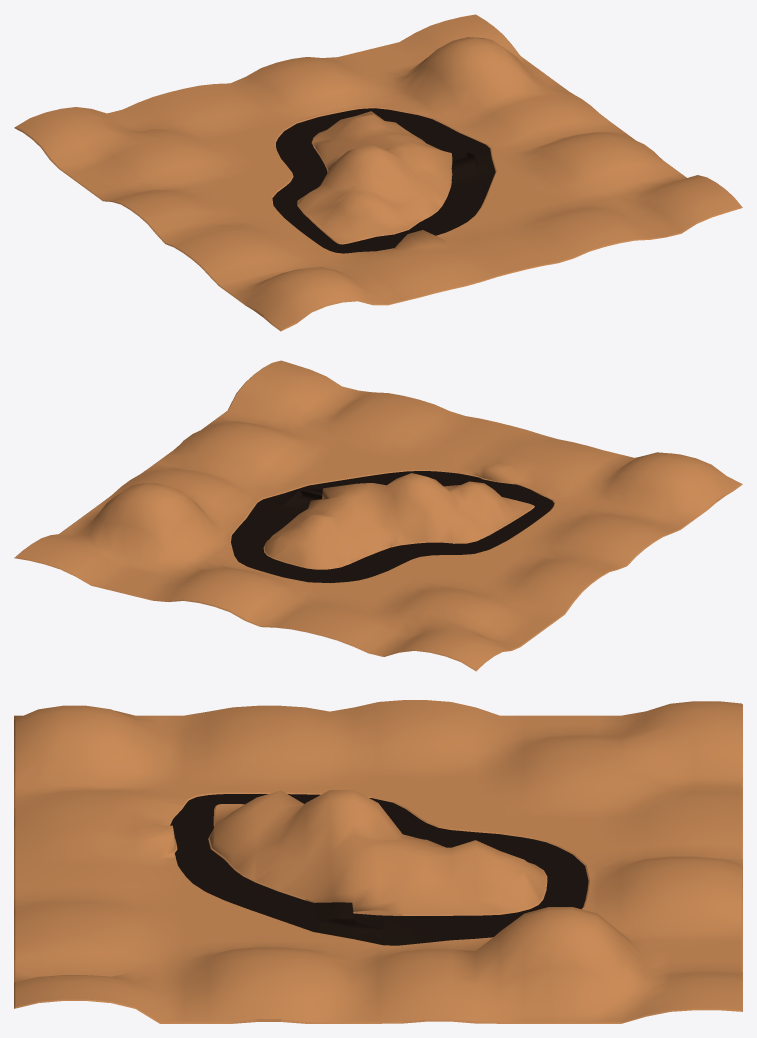
The model's file is desert.FBX.
3 views of the same model, one above another, from view 1: azimuth 30°, elevation 25°; view 2: azimuth 150°, elevation 25°; view 3: azimuth 270°, elevation 25° (orthographic). The views are drawn at different scales.
Visible parts, largest first — view 1: Plane031, Plane030; view 2: Plane031, Plane030; view 3: Plane031, Plane030.
Part boxes in pixels (bbox=[...]): Plane031: bbox=[14, 14, 742, 331]; Plane030: bbox=[272, 108, 495, 253]; Plane031: bbox=[14, 360, 742, 671]; Plane030: bbox=[231, 471, 554, 582]; Plane031: bbox=[14, 700, 742, 1023]; Plane030: bbox=[170, 794, 588, 945].
Bounding box in the file's own units: 59055 × 5868 × 59055.
